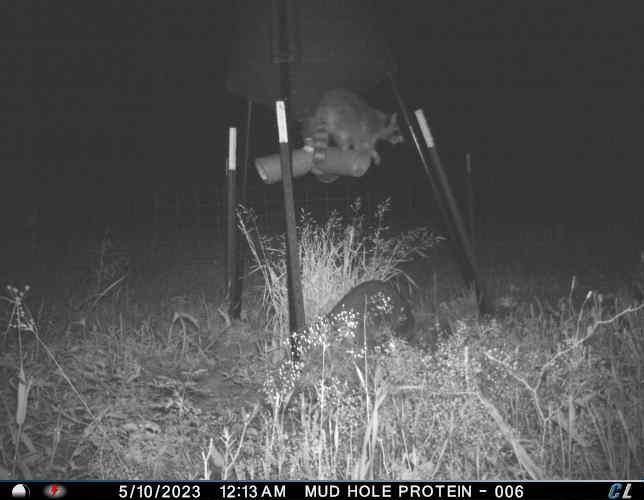Raccoon: (307, 87, 408, 167), (313, 278, 417, 355)
